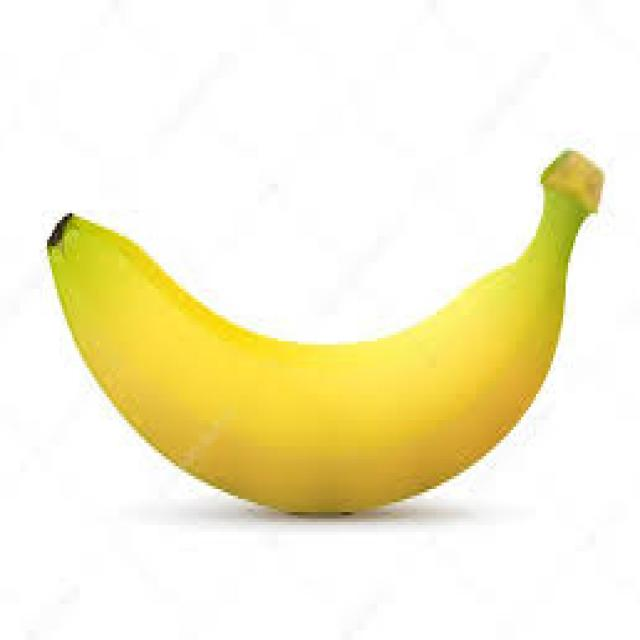organic waste: (42, 147, 600, 508)
